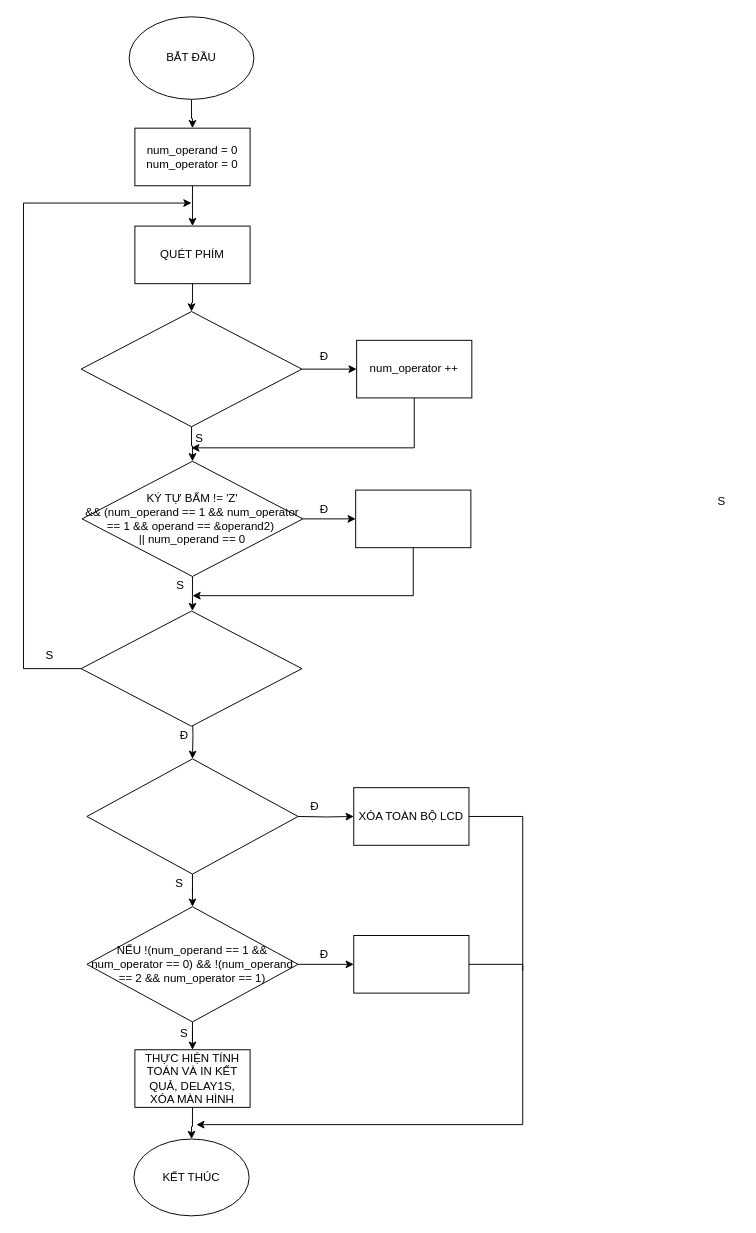
The diagram is 756 pixels wide and 1233 high, and some of its shapes have lost their labels. The shapes that lost their labels are listed below. From the top down, each one's centre as x and y in pixels, then its label:
[191,369]: KÝ TỰ BẤM LÀ TOÁN TỬ ?
[413,518]: num_operand ++
[191,668]: NẾU KÝ TỰ BẤM LÀ '='
[192,816]: NẾU num_operand == 0 && num_operator == 0
[411,964]: HIỂN THỊ LỖI, XÓA MÀN HÌNH
